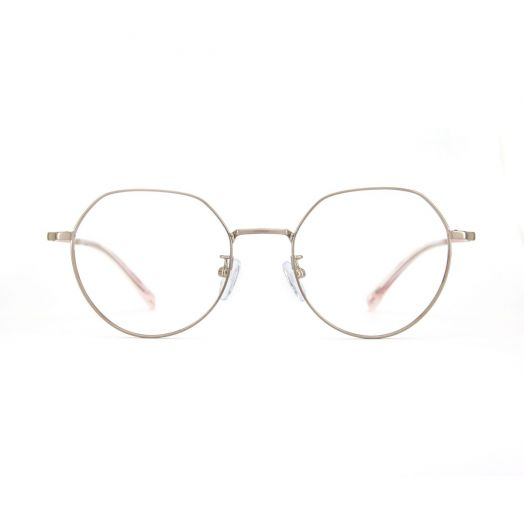glass: (40, 180, 479, 340)
